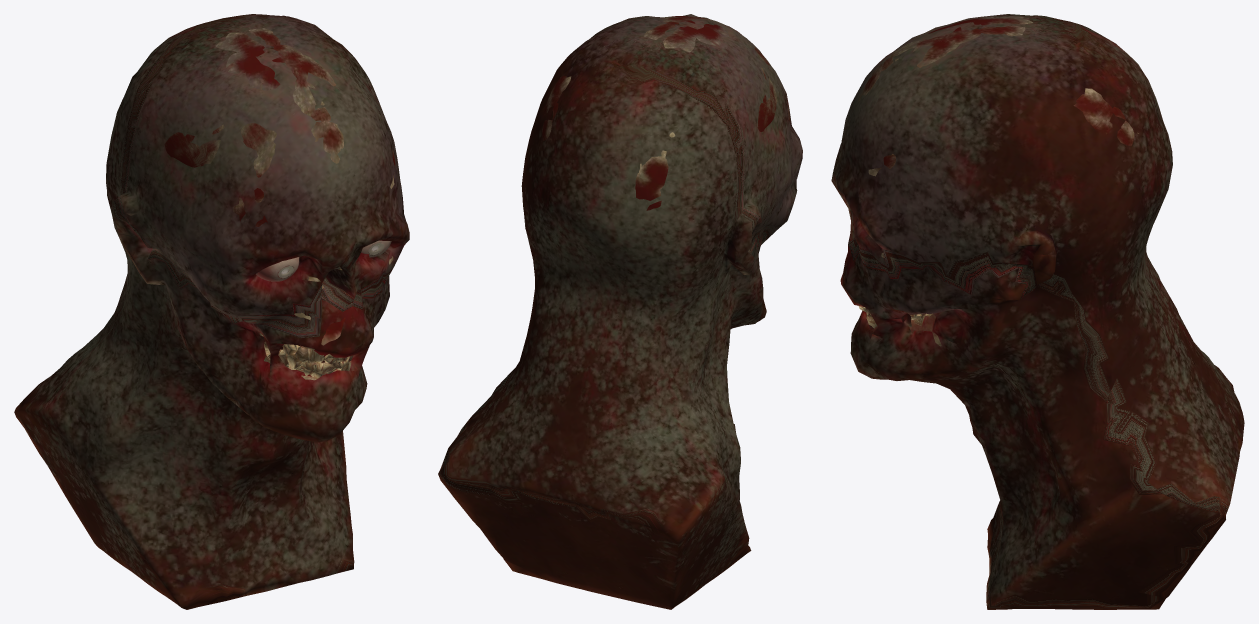
The model's file is zombie.glb.
3 views of the same model, side by side, from view 1: azimuth 30°, elevation 25°; view 2: azimuth 150°, elevation 25°; view 3: azimuth 270°, elevation 25° (orthographic). The views are drawn at different scales.
Parts seen in each view (by area): view 1: defaultMaterial (×4); view 2: defaultMaterial (×2); view 3: defaultMaterial (×2).
Part boxes in pixels (<box>): defaultMaterial (×4): <box>14,14,409,609</box>; defaultMaterial (×2): <box>438,14,802,609</box>; defaultMaterial (×2): <box>831,14,1244,609</box>.
Bounding box in the file's own units: 1.06 × 2 × 1.38.
Materials: 6 (6 with a texture image).
